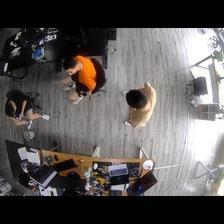normal: (54, 53, 97, 108), (115, 82, 162, 131), (6, 96, 51, 130)
